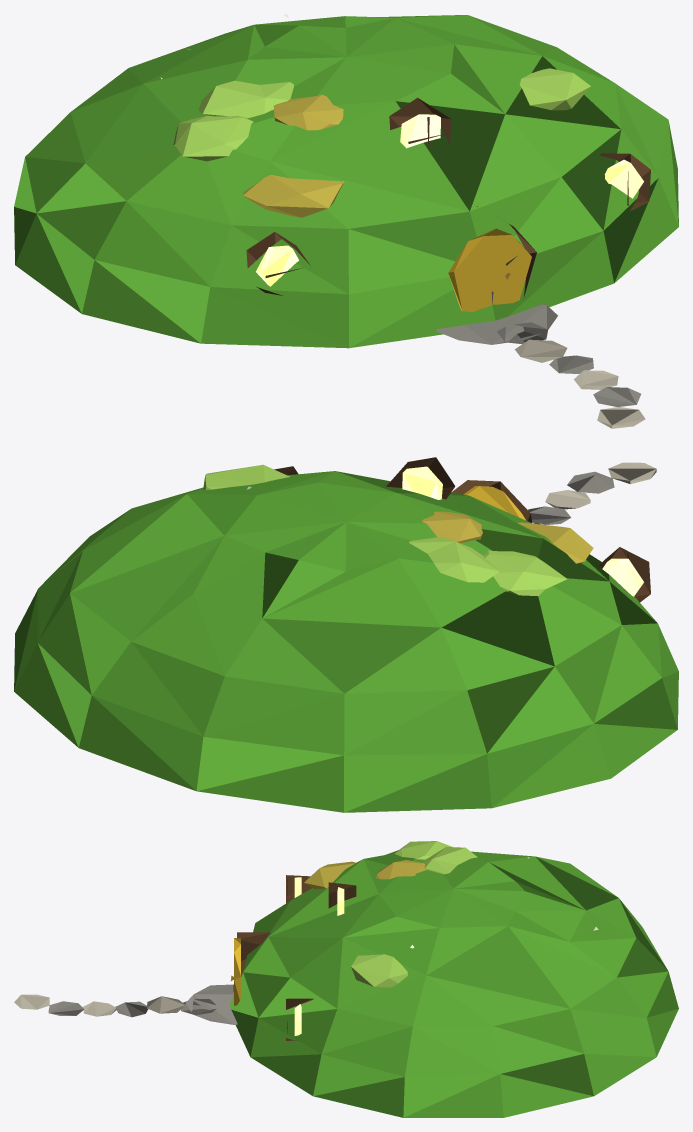
Rendered from hobbit_hole_3_lod1.glb.
3 renders of one model, top to bottom at view 1: azimuth 30°, elevation 25°; view 2: azimuth 150°, elevation 25°; view 3: azimuth 270°, elevation 25°, orthographic. The views are drawn at different scales.
Parts seen in each view (by area): view 1: hobbit_hole_3_lod1; view 2: hobbit_hole_3_lod1; view 3: hobbit_hole_3_lod1.
Part boxes in pixels (x1,y1,x2,y2): hobbit_hole_3_lod1: [14, 14, 678, 428]; hobbit_hole_3_lod1: [14, 457, 678, 812]; hobbit_hole_3_lod1: [14, 841, 678, 1117].
Size of the model in its own units: 14.82 by 3.92 by 19.06.
